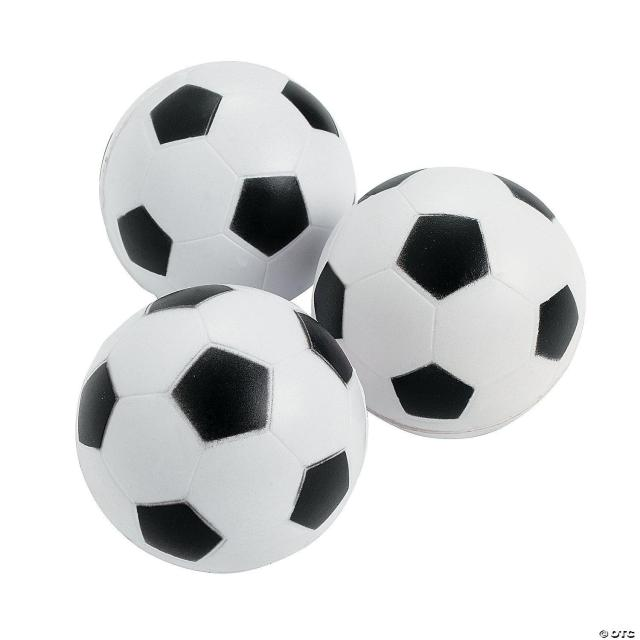Soccer Ball: (75, 284, 368, 574), (316, 166, 585, 437), (102, 62, 357, 304)
